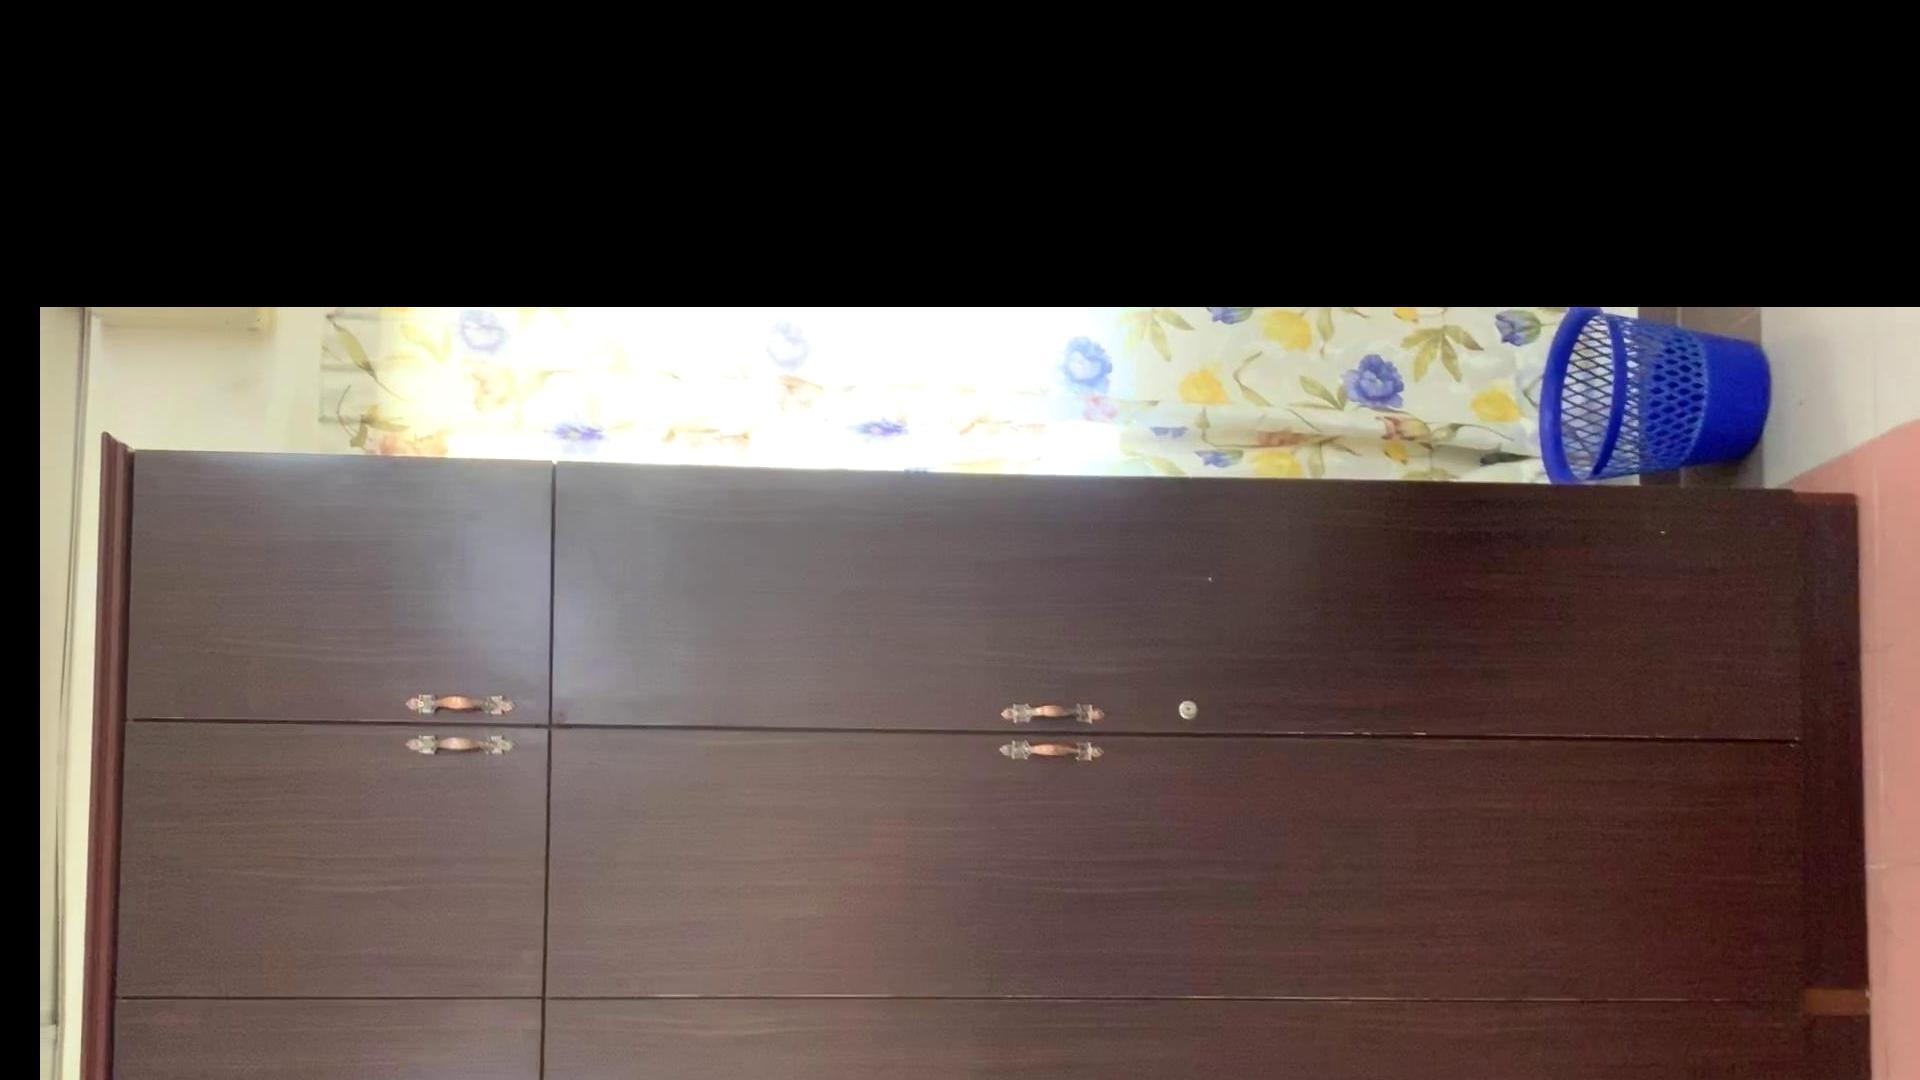Armario: (76, 397, 1912, 1080)
